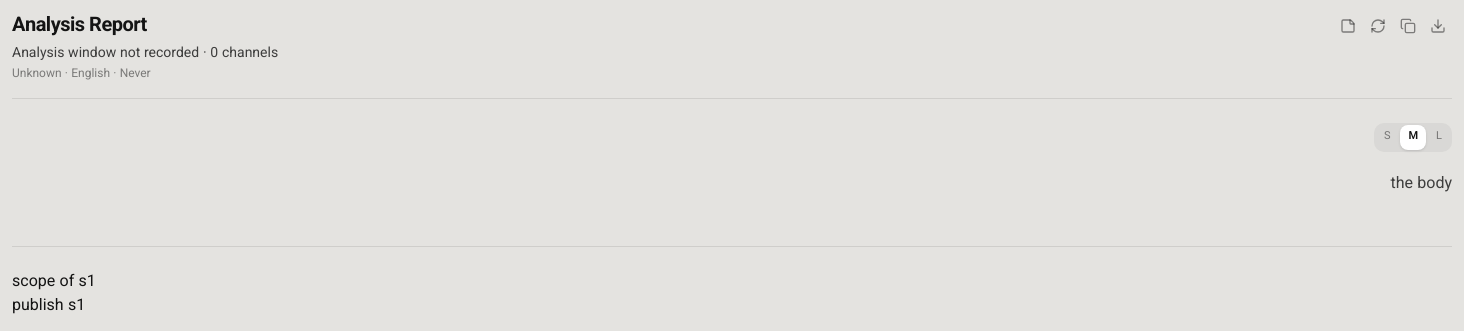
Test case: the Summary header › copy writes the body and says so
What coordinates should you click on to do the following:
click the button named "Copy text"
I would click on:
 (1408, 26)
Its box is [1394,12,1422,40].
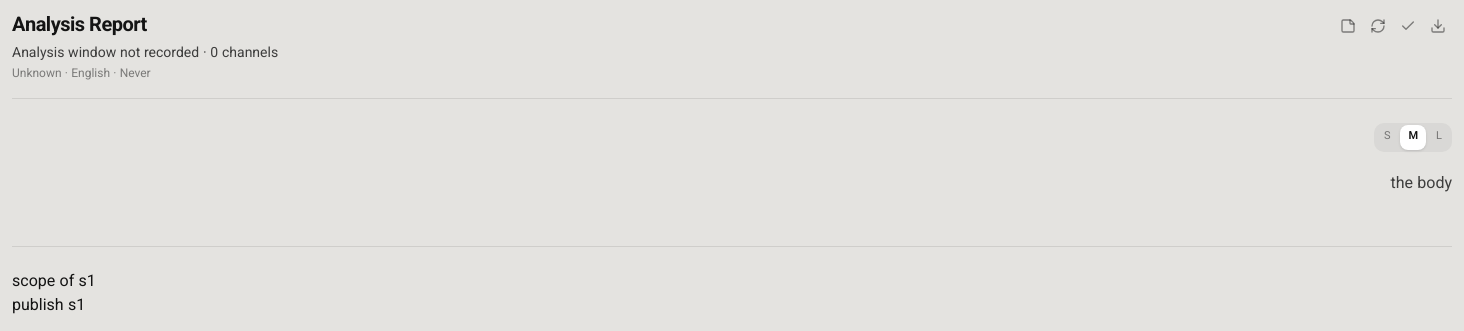
Expected: the button named "Copied" is shown, [1394,12,1422,40]
